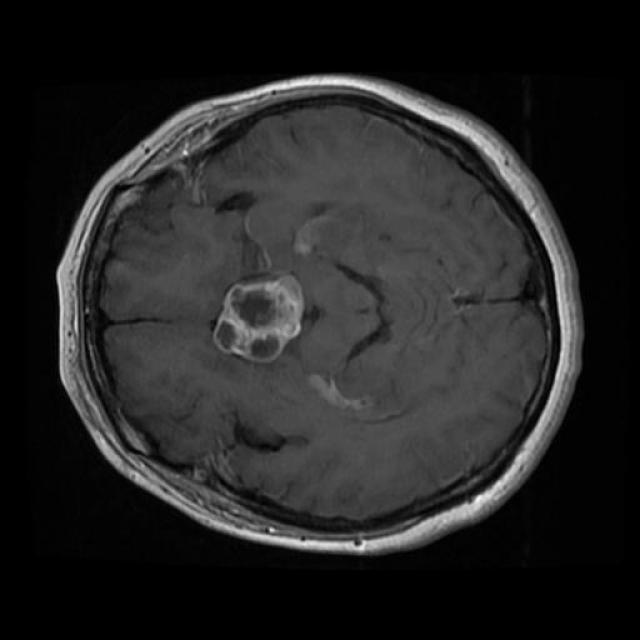Pituitary: (213, 274, 303, 361)
